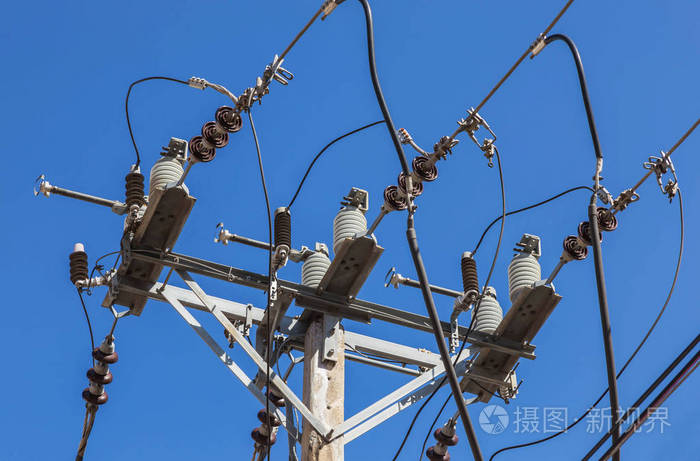insulator: (383, 157, 439, 210), (563, 207, 621, 258), (194, 107, 241, 162), (80, 345, 119, 405), (249, 390, 284, 447), (425, 429, 457, 461)
